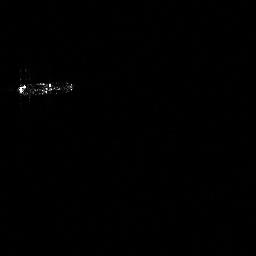ship: (19, 80, 73, 97)
